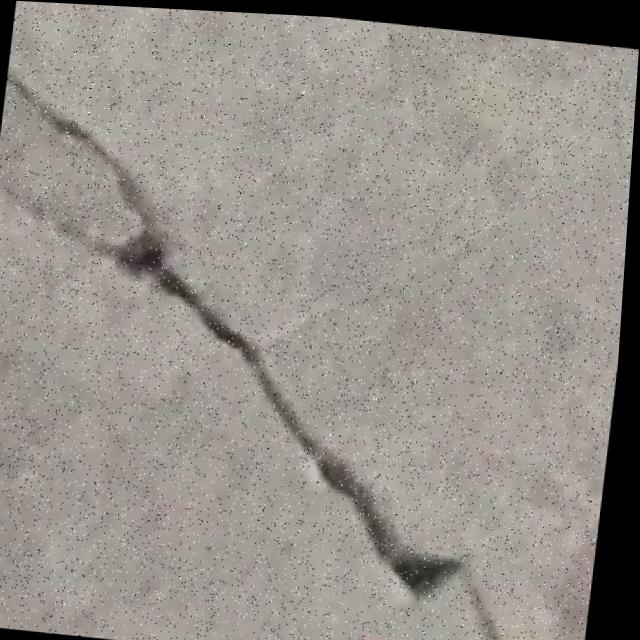Crack: (0, 71, 617, 640)
